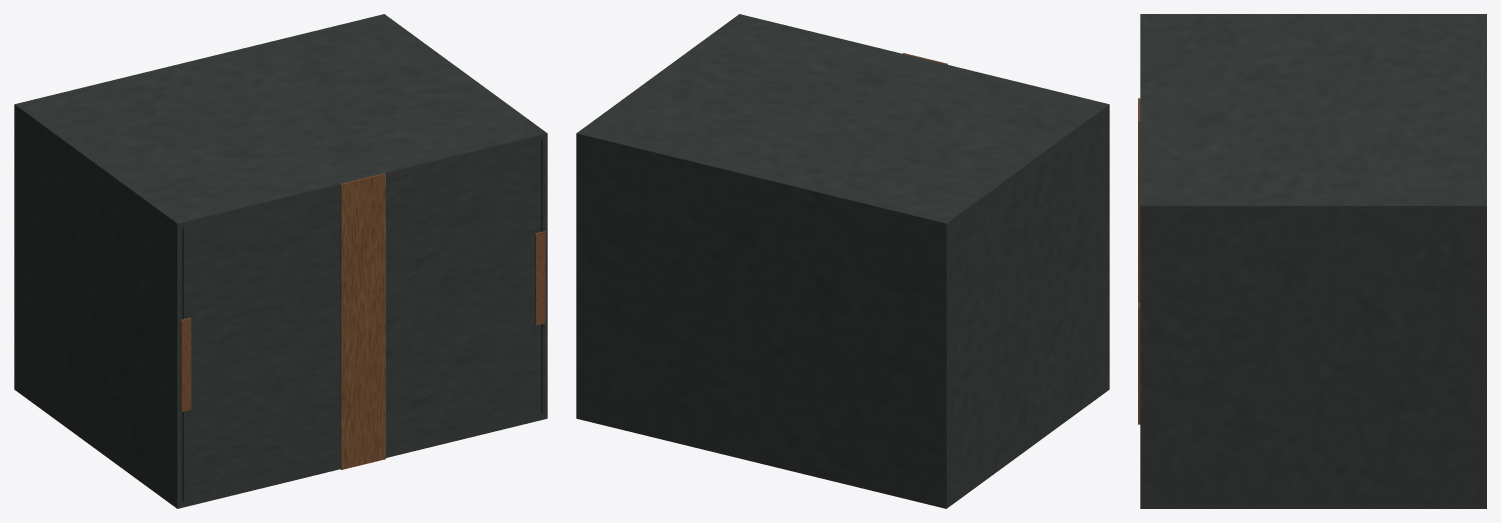
The model's file is ASSET_CARTON_SMALL_380.glb.
3 renders of one model, left to right at view 1: azimuth 30°, elevation 25°; view 2: azimuth 150°, elevation 25°; view 3: azimuth 270°, elevation 25°, orthographic. The views are drawn at different scales.
Parts seen in each view (by area): view 1: CARTON_SMALL_380_back_wall, CARTON_SMALL_380_left_wall, CARTON_SMALL_380_back_top_flap, CARTON_SMALL_380_front_top_flap, CARTON_SMALL_380_top_tape_strip, CARTON_SMALL_380_front_wall, CARTON_SMALL_380_bottom, CARTON_SMALL_380_right_wall, CARTON_SMALL_380_side_seam_tape_01, CARTON_SMALL_380_side_seam_tape_02; view 2: CARTON_SMALL_380_bottom, CARTON_SMALL_380_back_wall, CARTON_SMALL_380_left_wall, CARTON_SMALL_380_front_wall; view 3: CARTON_SMALL_380_right_wall, CARTON_SMALL_380_back_wall, CARTON_SMALL_380_bottom, CARTON_SMALL_380_front_wall, CARTON_SMALL_380_top_tape_strip.
Boxes of the visible parts, x1,y1,x2,y2 form: CARTON_SMALL_380_back_wall: (17,16,547,228); CARTON_SMALL_380_left_wall: (17,112,182,503); CARTON_SMALL_380_back_top_flap: (182,137,541,362); CARTON_SMALL_380_front_top_flap: (182,279,541,505); CARTON_SMALL_380_top_tape_strip: (340,173,385,469); CARTON_SMALL_380_front_wall: (17,387,547,508); CARTON_SMALL_380_bottom: (14,14,386,391); CARTON_SMALL_380_right_wall: (541,138,547,414); CARTON_SMALL_380_side_seam_tape_01: (180,317,191,411); CARTON_SMALL_380_side_seam_tape_02: (535,231,545,325); CARTON_SMALL_380_bottom: (576,131,949,508); CARTON_SMALL_380_back_wall: (579,14,1109,226); CARTON_SMALL_380_left_wall: (949,109,1109,501); CARTON_SMALL_380_front_wall: (949,385,1109,506); CARTON_SMALL_380_right_wall: (1140,211,1480,503); CARTON_SMALL_380_back_wall: (1140,14,1480,211); CARTON_SMALL_380_bottom: (1481,14,1486,508); CARTON_SMALL_380_front_wall: (1140,503,1480,508); CARTON_SMALL_380_top_tape_strip: (1138,98,1140,424).
Size of the model in its own units: 0.38 by 0.283 by 0.292.
Materials: 1 (1 with a texture image).
